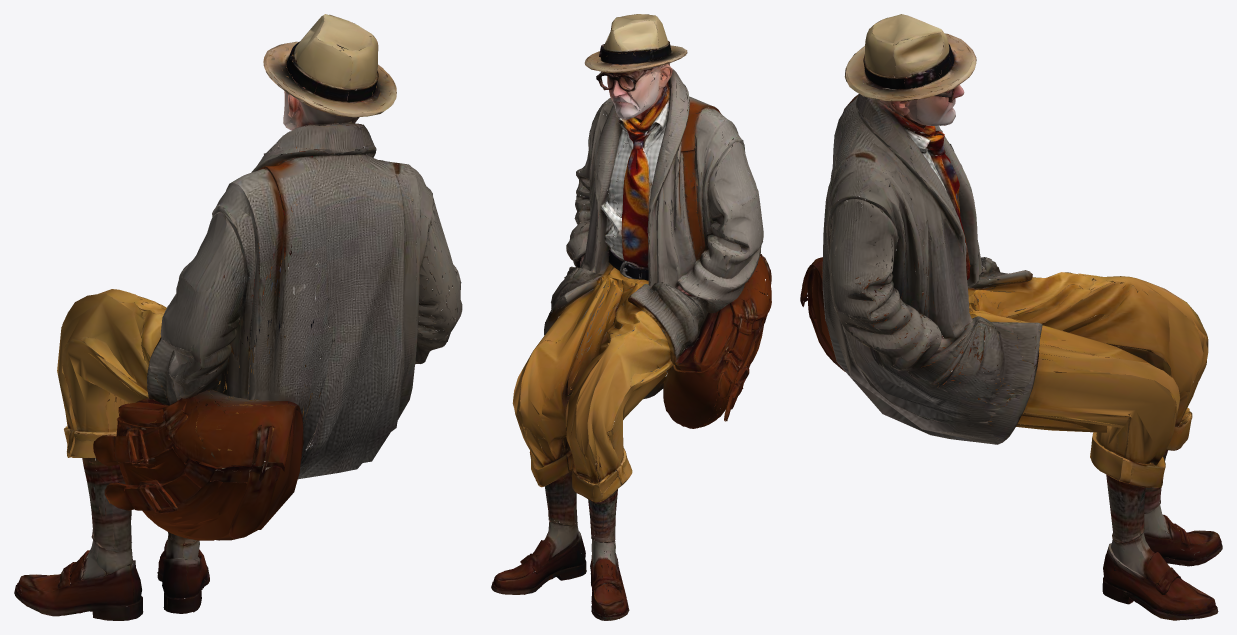
Rendered from passenger-c-seated.glb.
3 views of the same model, side by side, from view 1: azimuth 30°, elevation 25°; view 2: azimuth 150°, elevation 25°; view 3: azimuth 270°, elevation 25° (orthographic). The views are drawn at different scales.
Parts seen in each view (by area): view 1: passenger-c-seated / posed source mesh; view 2: passenger-c-seated / posed source mesh; view 3: passenger-c-seated / posed source mesh.
Part boxes in pixels (bbox=[...]): passenger-c-seated / posed source mesh: bbox=[14, 14, 462, 620]; passenger-c-seated / posed source mesh: bbox=[491, 14, 771, 620]; passenger-c-seated / posed source mesh: bbox=[800, 14, 1222, 620].
Bounding box in the file's own units: 0.6946 × 1.56 × 1.01.
1 material, 1 textured.
